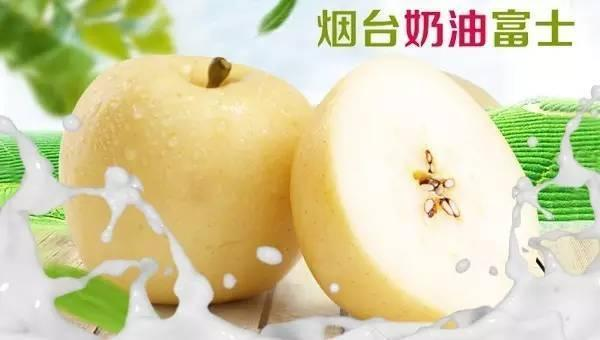apple: (291, 54, 538, 322), (59, 48, 311, 303)
